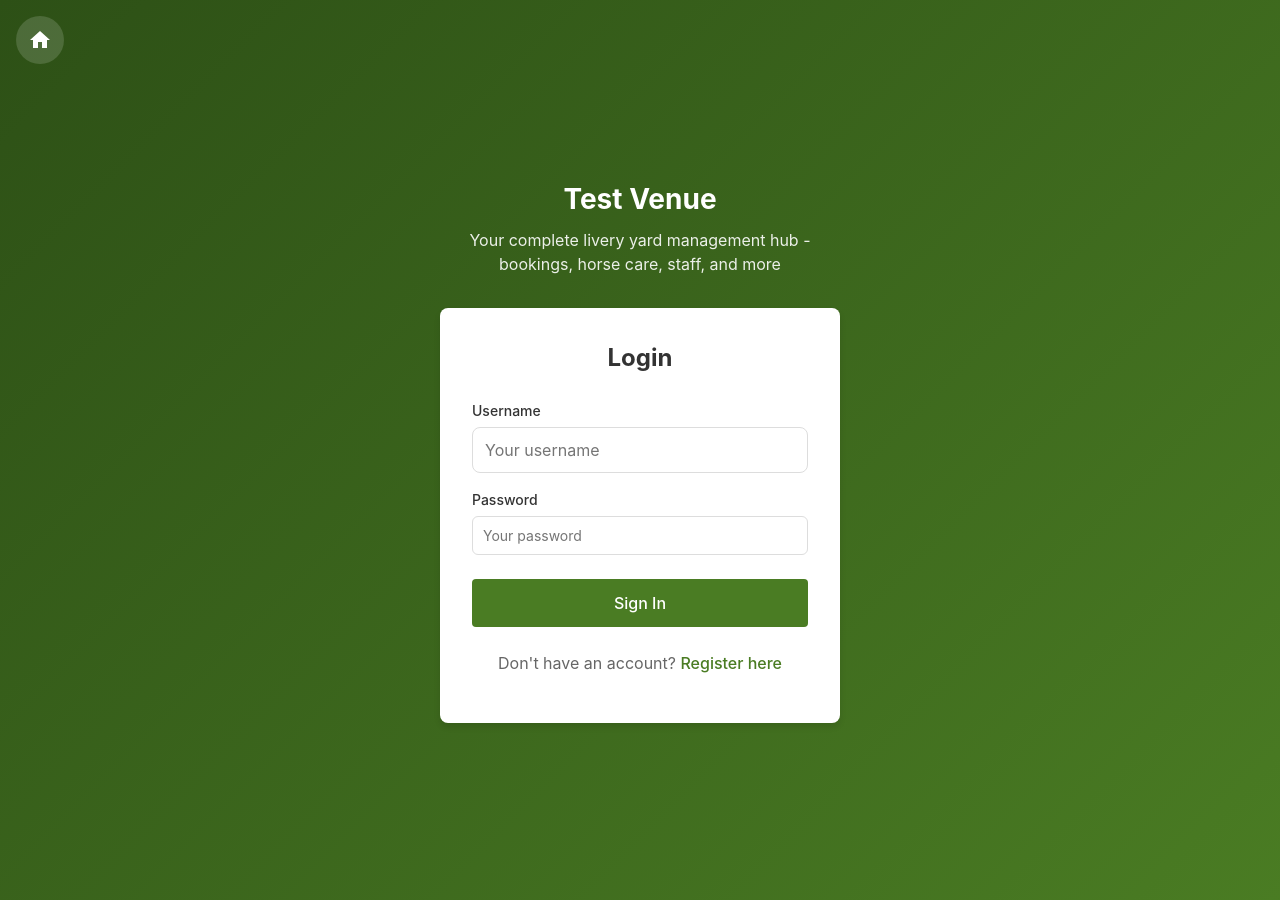
Test: Login › shows error on failed login
In the field labelled "Username": (640, 450) [472,426,808,472], type "testuser"
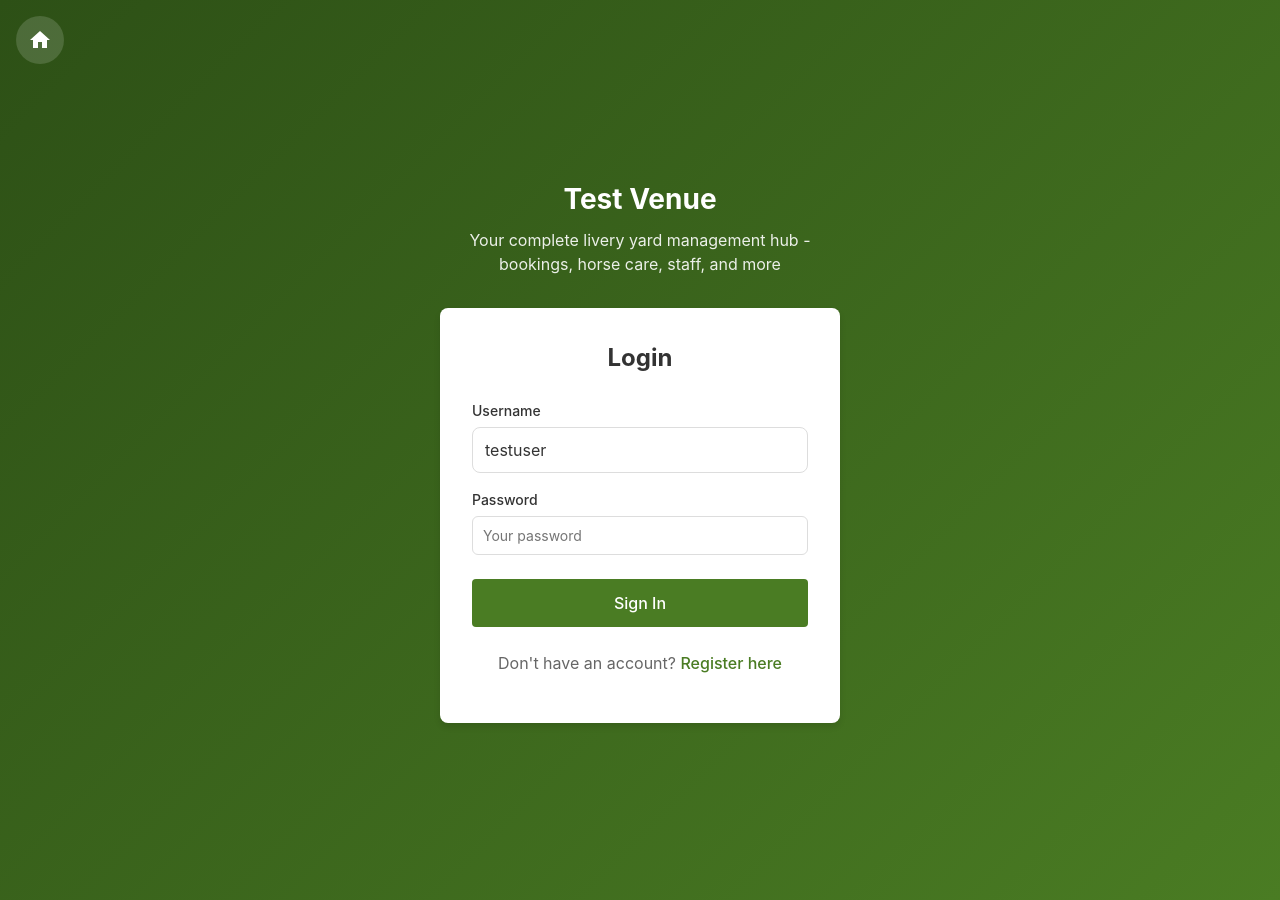
In the password field labelled "Password": (640, 535) [472,516,808,554], type "wrongpassword"
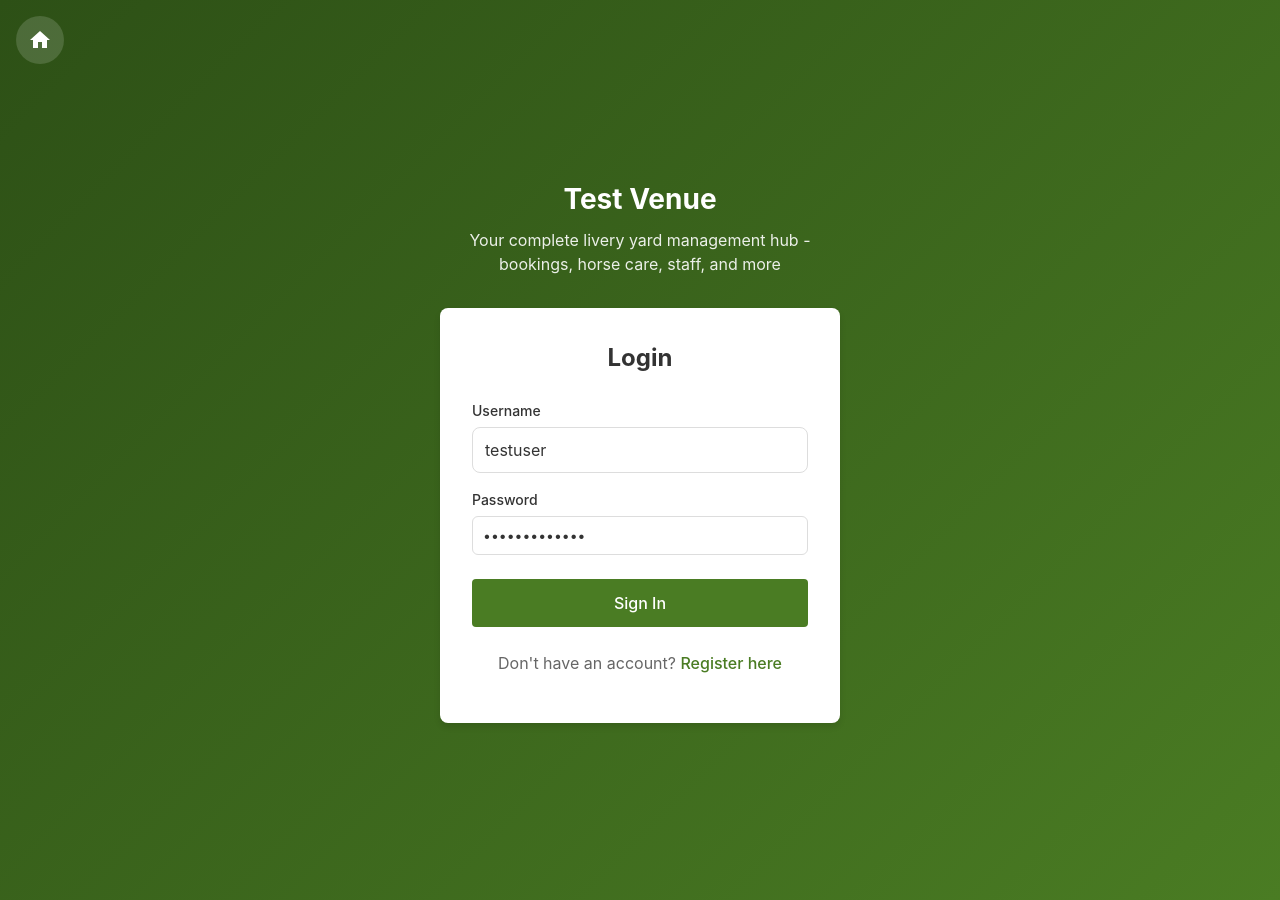
Click the button "Sign In": (640, 602) [472,578,808,626]
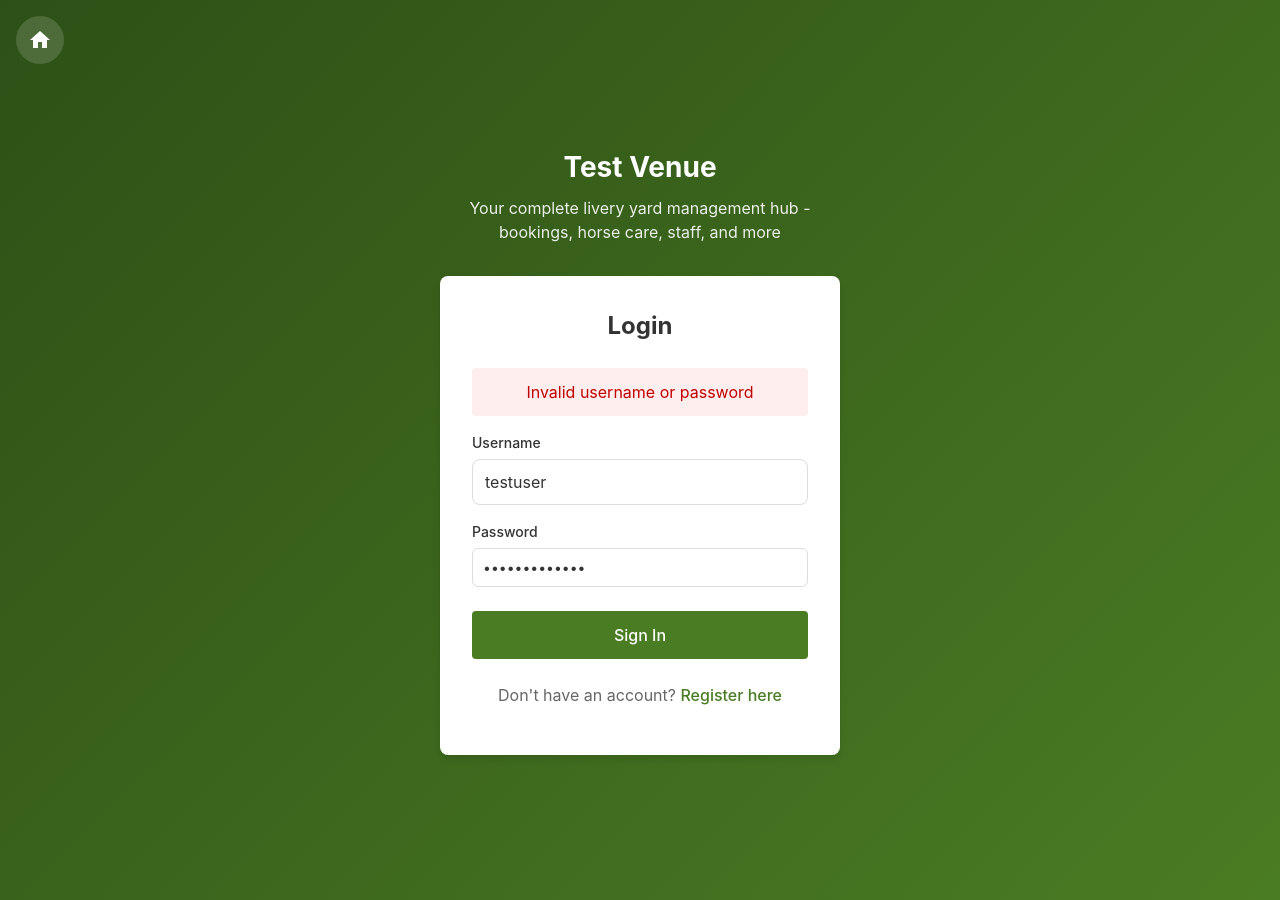
Now the text "Invalid username or password" is shown, box [472,368,808,416]
